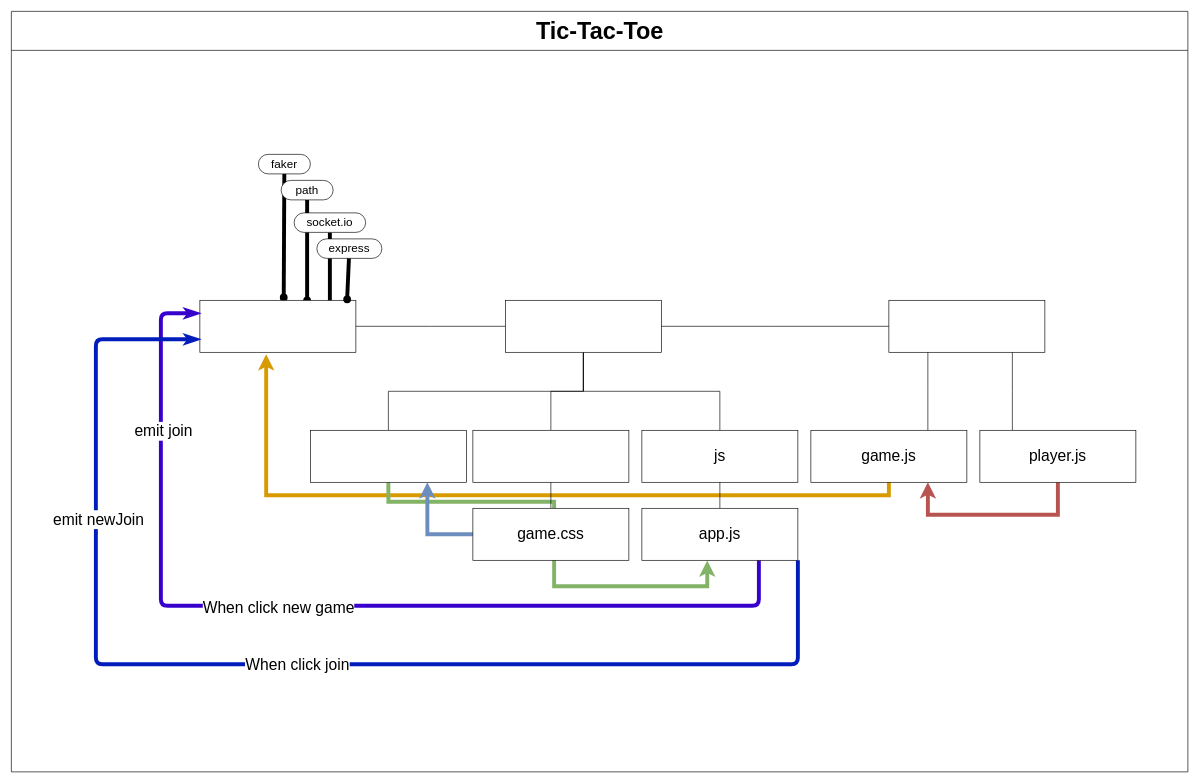
The diagram is 1199 pixels wide and 783 high, and some of its shapes have lost their labels. Each missing label, with the box of its shape:
index.html: (310, 430, 466, 482)
models: (888, 300, 1045, 352)
public: (505, 300, 661, 352)
style: (472, 430, 629, 482)
tic-tac-toe.js: (199, 300, 356, 352)
